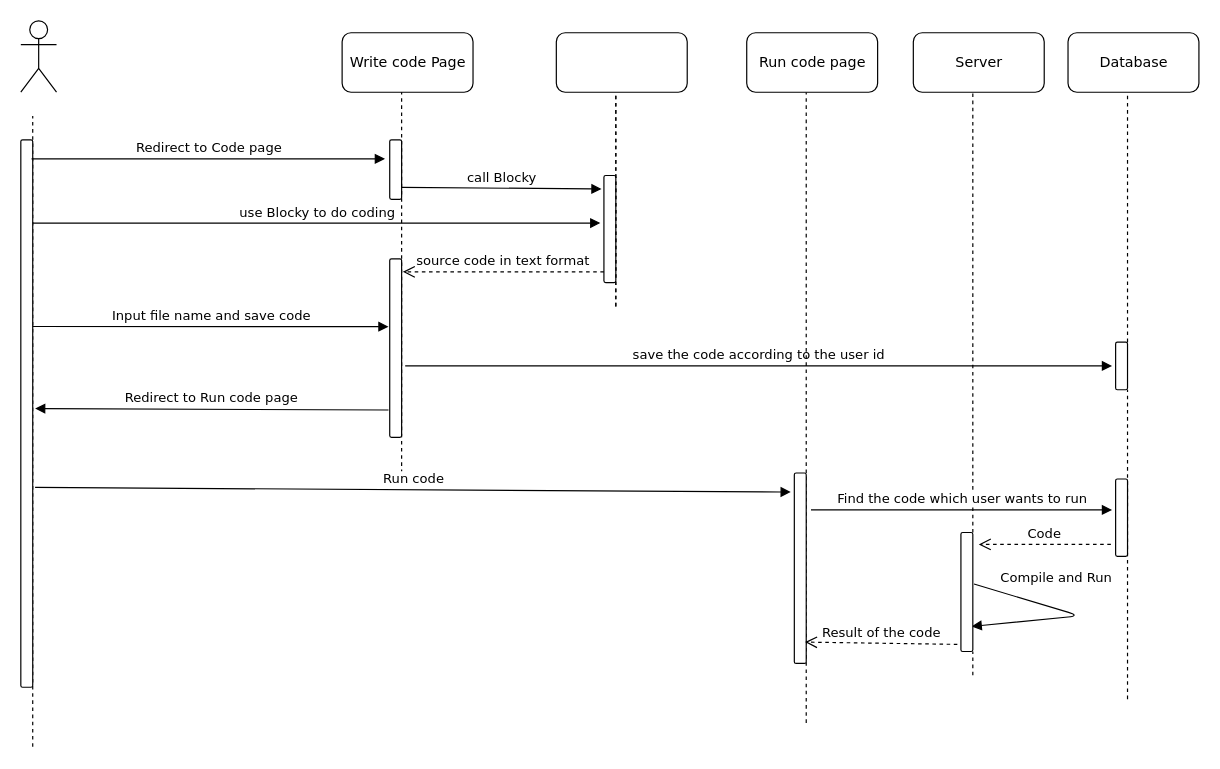
Image size: 1220x769. Some labels were removed from this diagram. The shapes that lost their labels are listed below. From the top down, each one's centre as x and y in pixels, then its label:
At [38,56]: "User".
At [621,62]: "Blocky".
